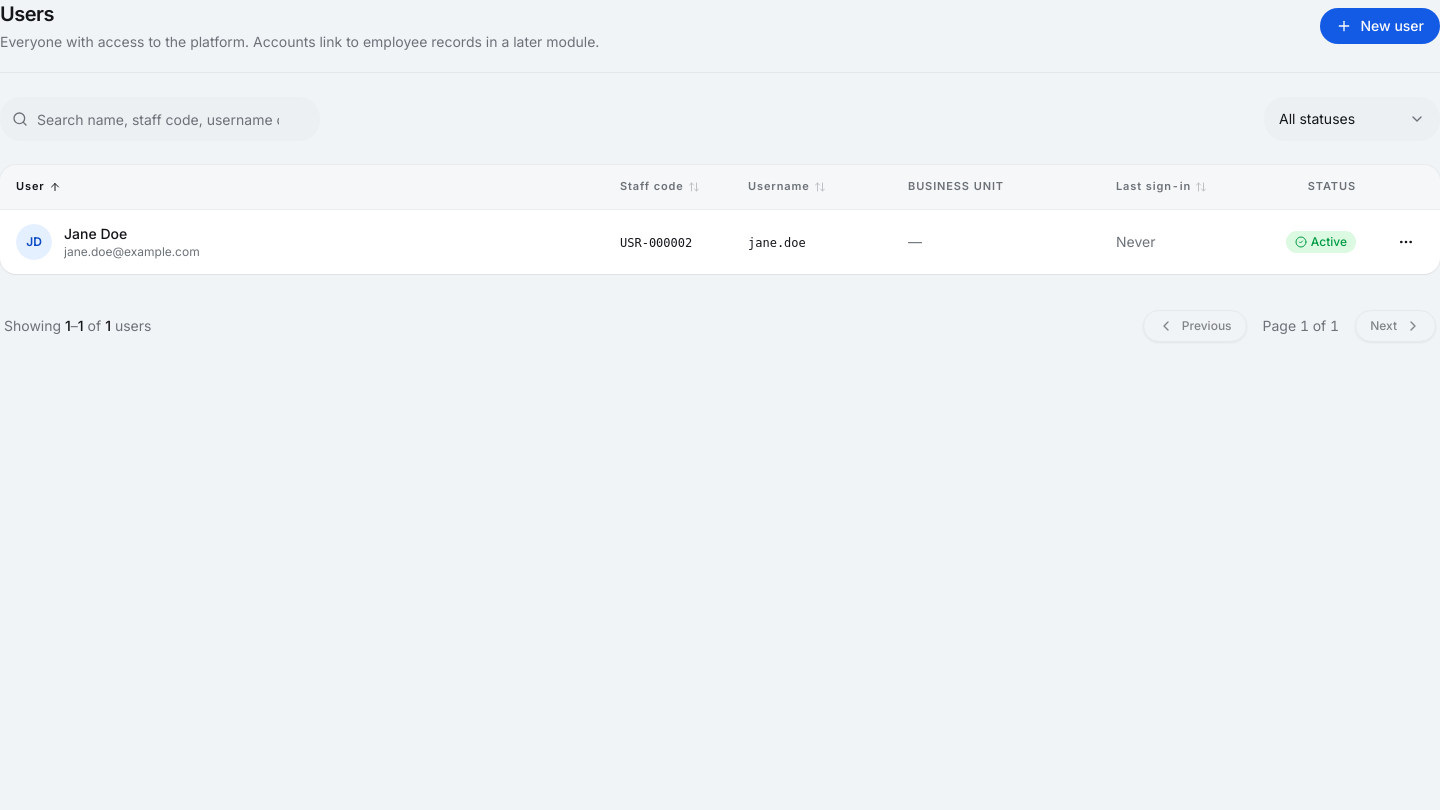
Scenario: UserListPage › asks for confirmation before archiving
This screenshot has width=1440, height=810.
Click the button named "actions for jane doe" at (1406, 242), box [1388, 224, 1424, 260]
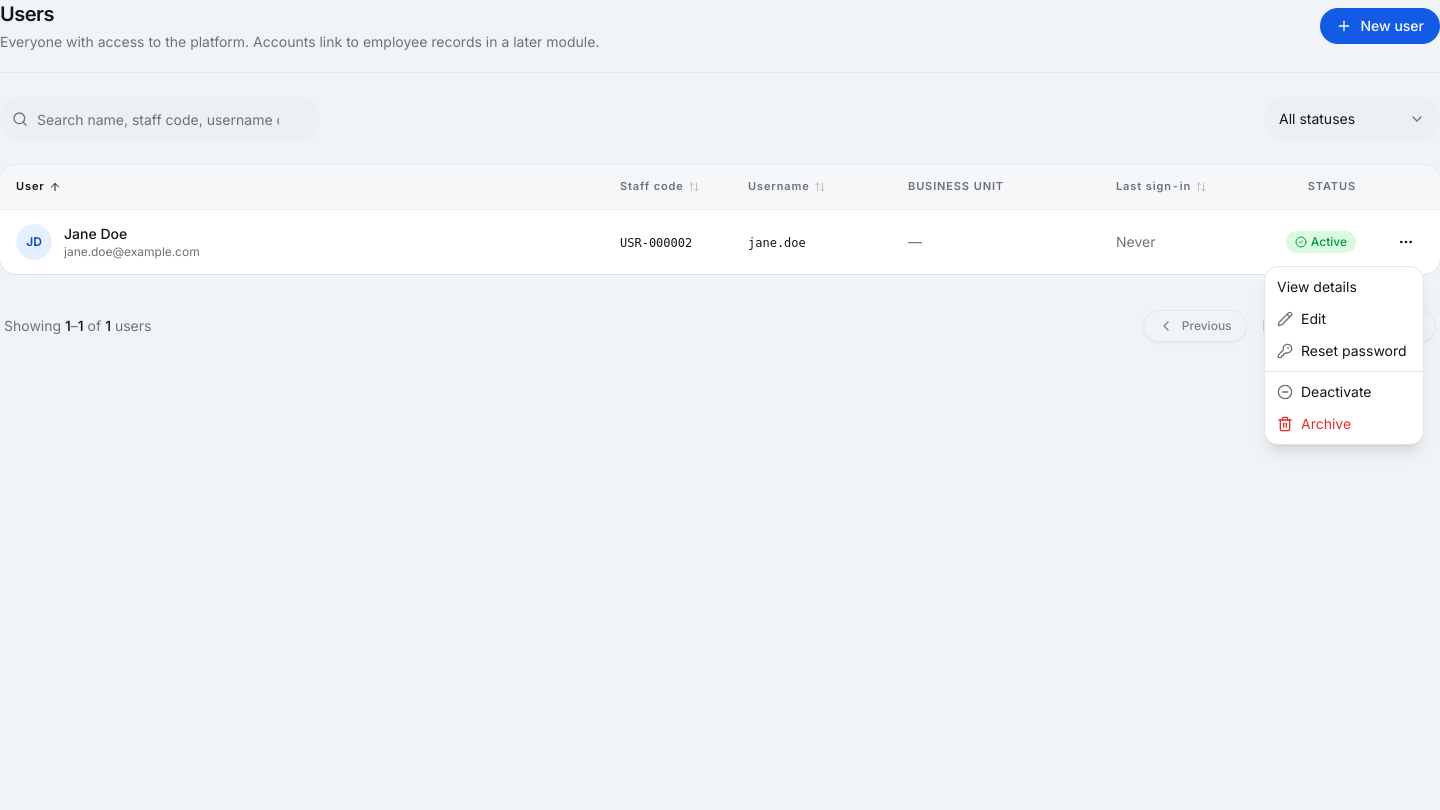
Click the menu item "Archive" at (1314, 424), box [1277, 415, 1351, 432]
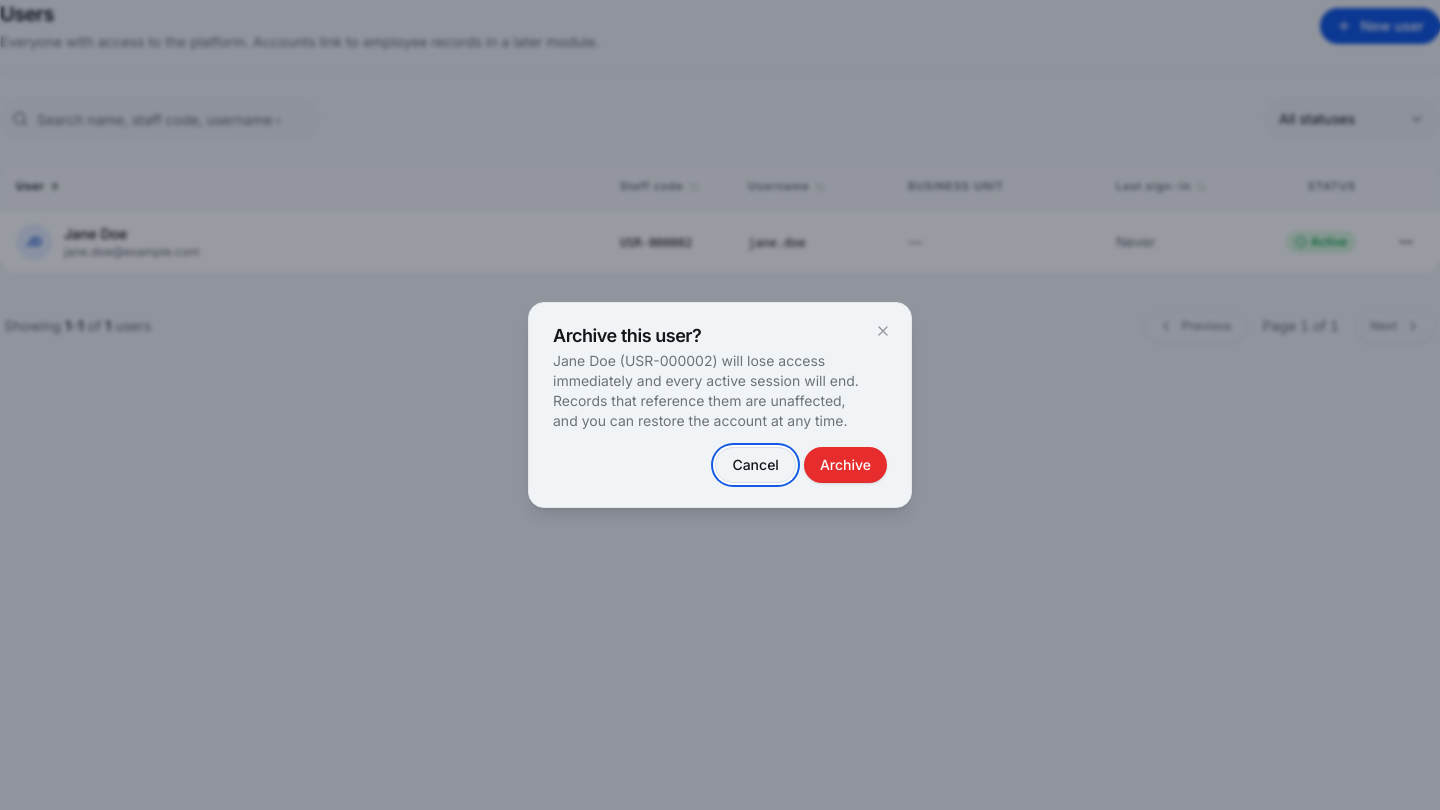
Expected: the dialog shows "Archive this user", [553, 325, 701, 346]
